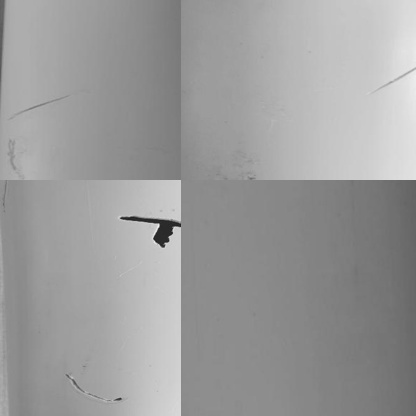fengxi: (61, 371, 129, 406), (120, 213, 185, 229)
kongdong: (153, 224, 176, 252)
sunshang: (5, 92, 68, 120), (374, 65, 415, 97)
